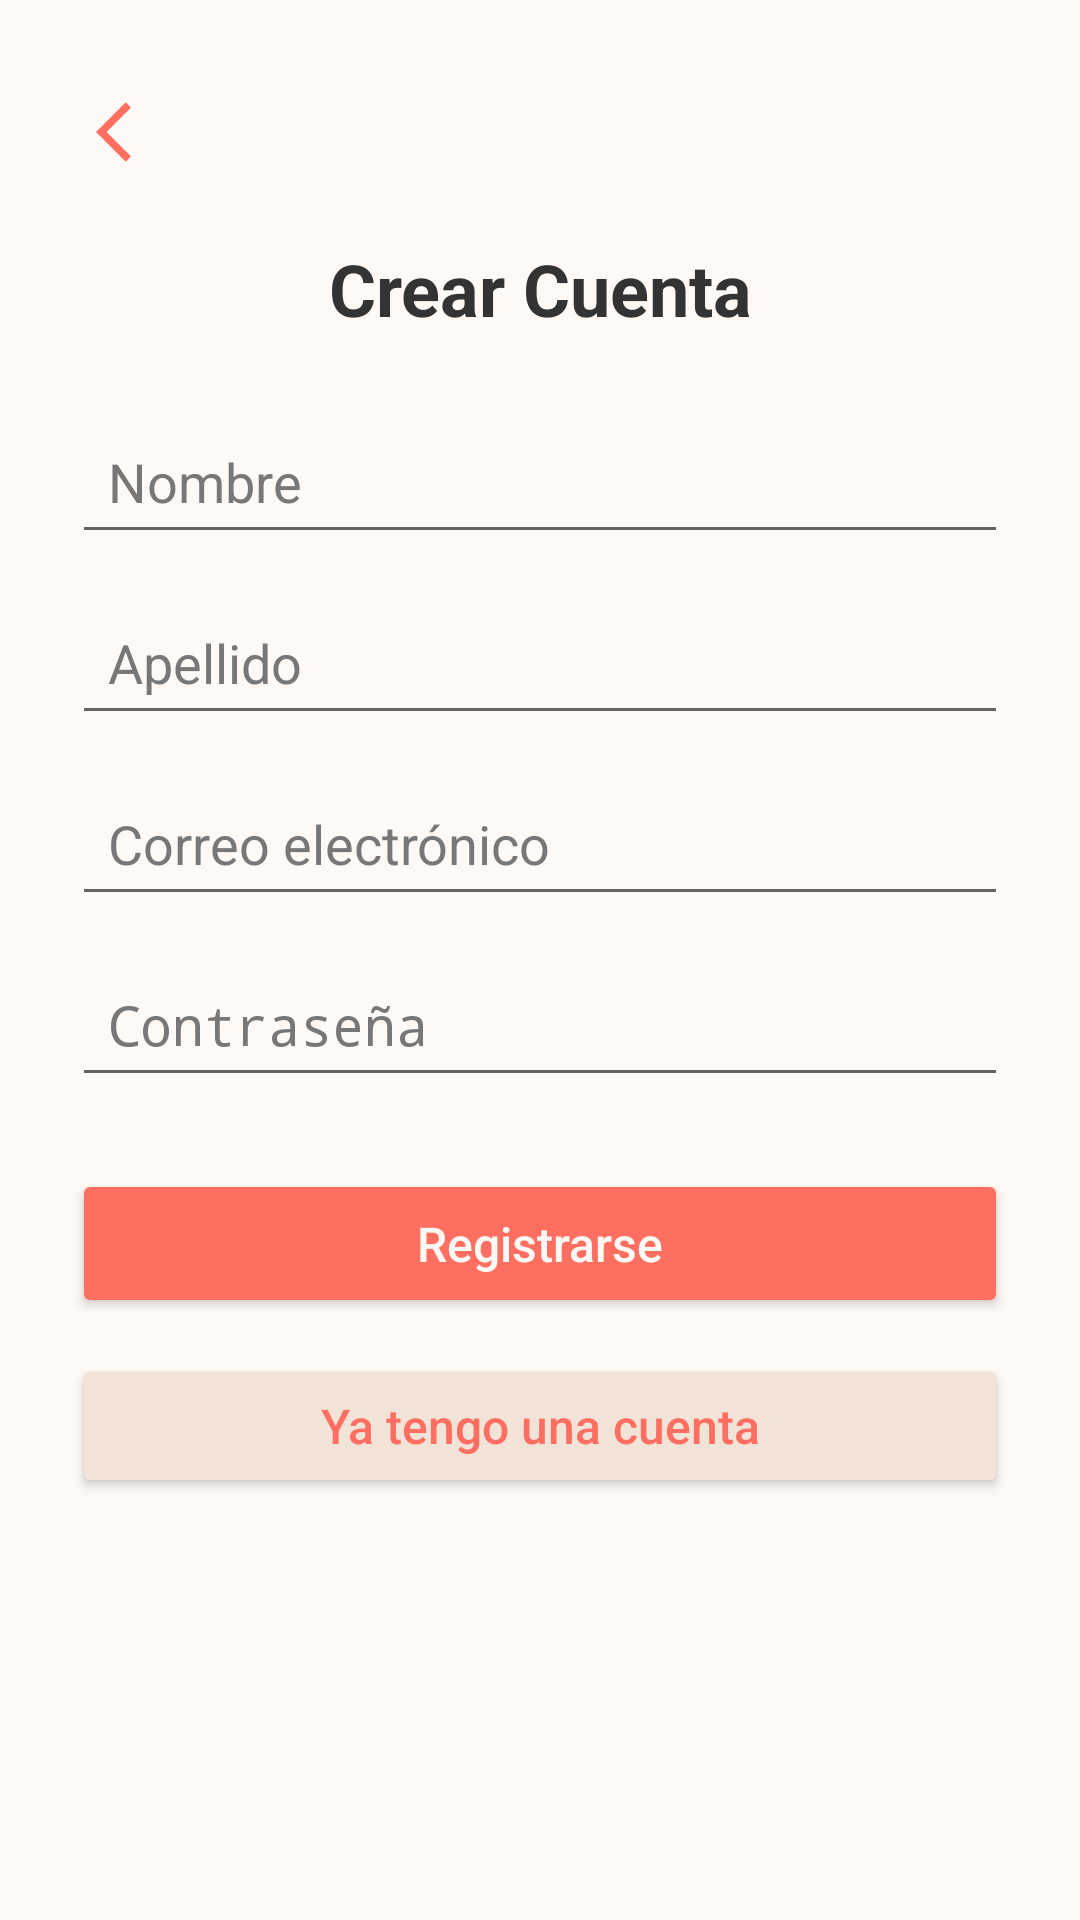

Where icons sit on this 1080px x 1920px app screen, as (x1, y1, x2, y2):
Botón atrás: (96, 102, 131, 162)
